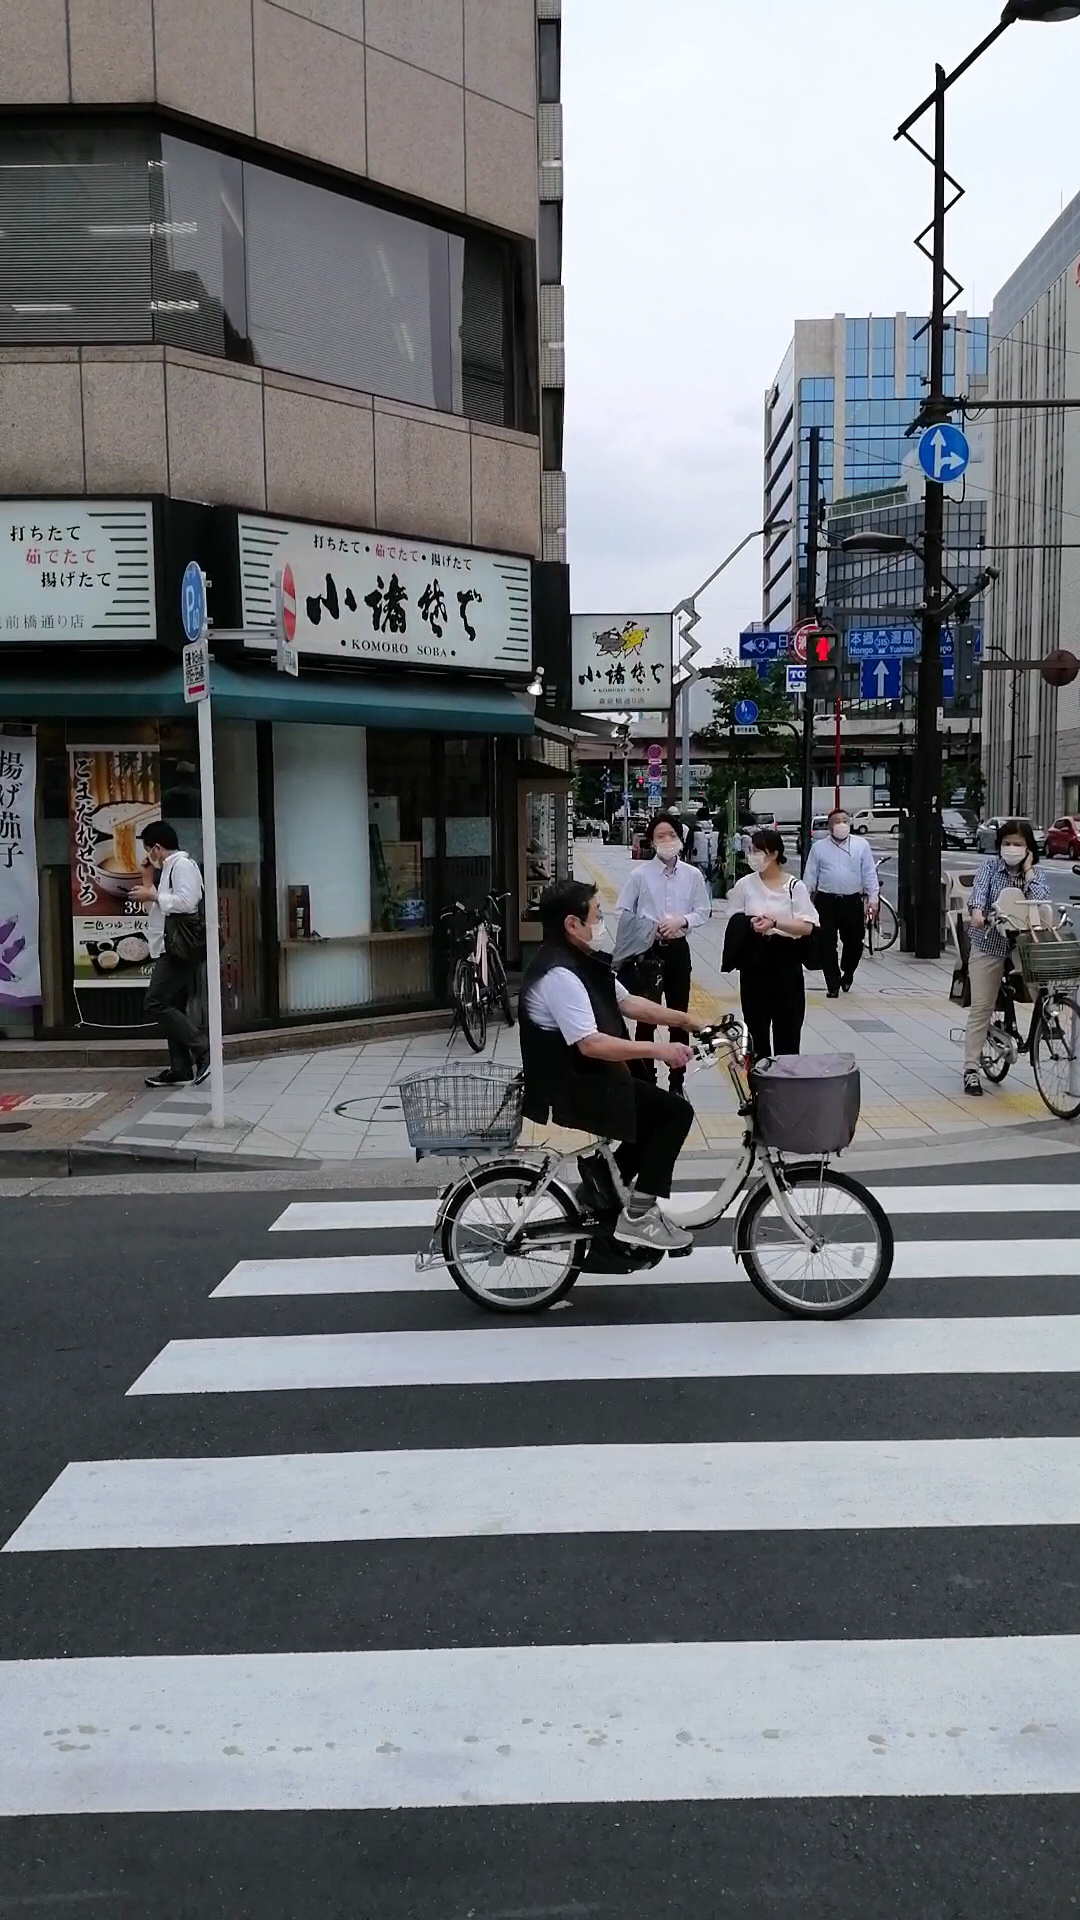red: (804, 630, 840, 699)
